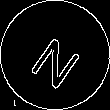N_NE: (24, 23, 86, 87)
